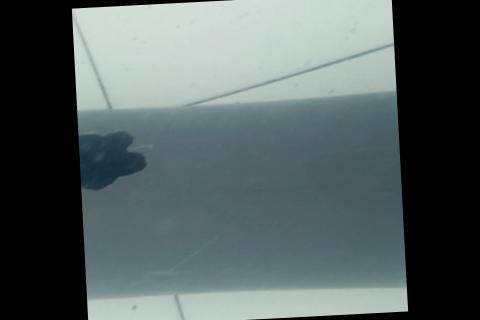kebocoran: (78, 125, 151, 192)
